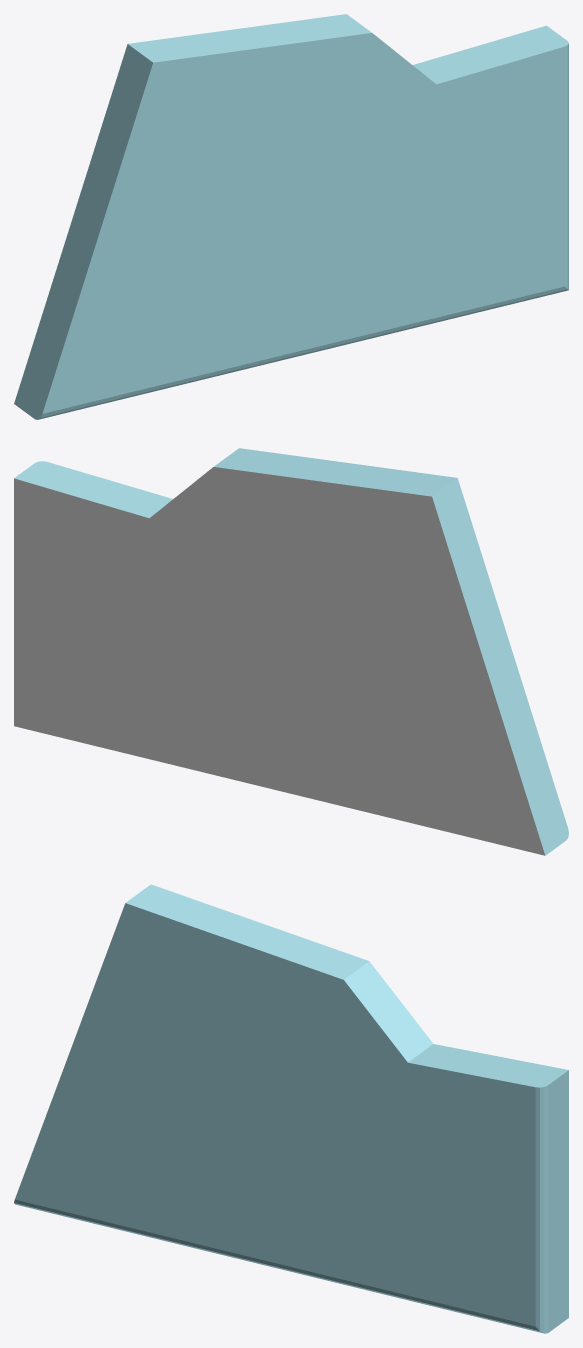
File: chrome10.glb
3 views of the same model, one above another, from view 1: azimuth 30°, elevation 25°; view 2: azimuth 150°, elevation 25°; view 3: azimuth 330°, elevation 25° (orthographic).
Visible parts, largest first — view 1: Plane.011; view 2: Plane.011; view 3: Plane.011.
Part boxes in pixels (x1=…): Plane.011: x1=14, y1=14, x2=568, y2=419; Plane.011: x1=14, y1=448, x2=568, y2=855; Plane.011: x1=14, y1=884, x2=568, y2=1333.
Size of the model in its own units: 59.87 by 35.7 by 5.
